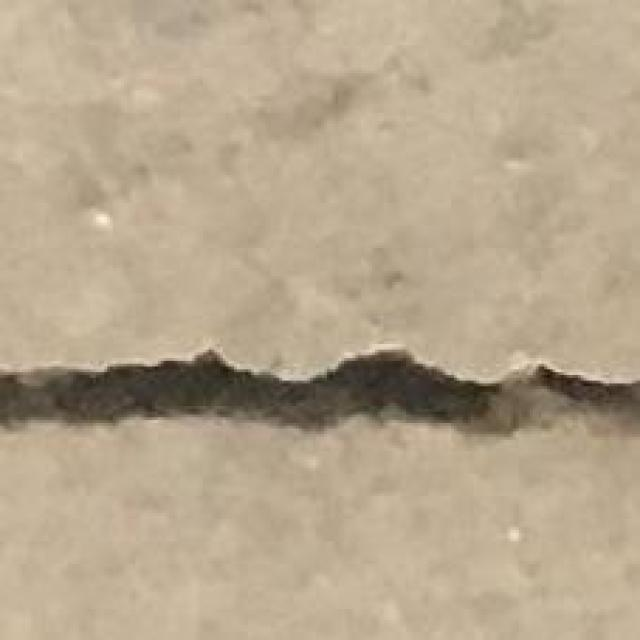horizontal crack: (0, 348, 639, 434)
